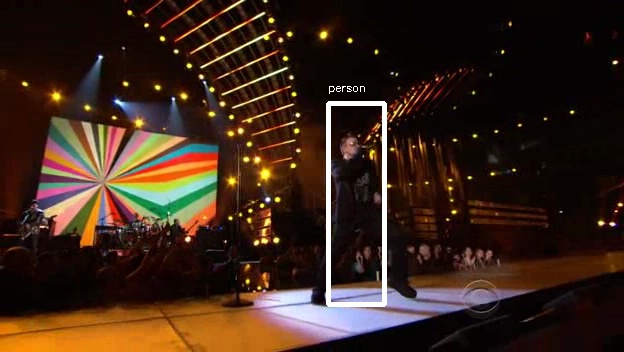person: (327, 134, 392, 252), (324, 134, 389, 252), (330, 134, 395, 252), (327, 131, 392, 249), (327, 137, 392, 255)
target_negative: (48, 214, 474, 322), (252, 287, 543, 350), (451, 124, 581, 197), (550, 129, 604, 202), (570, 176, 586, 351)
